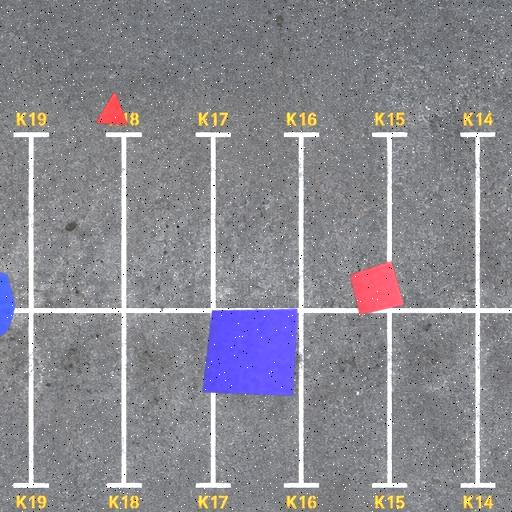BLUE_SQUARE: (202, 308, 298, 397)
RED_SQUARE: (349, 261, 405, 315)
